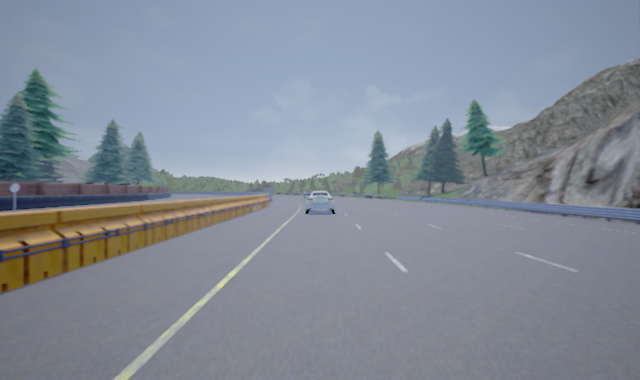vehicle: (304, 190, 335, 214)
